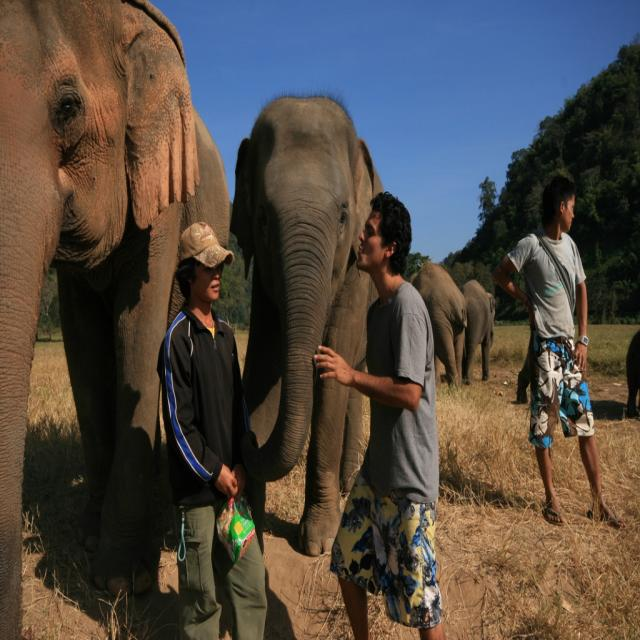elephant: (0, 0, 241, 639), (218, 83, 392, 566), (404, 261, 470, 384), (458, 282, 497, 383)
